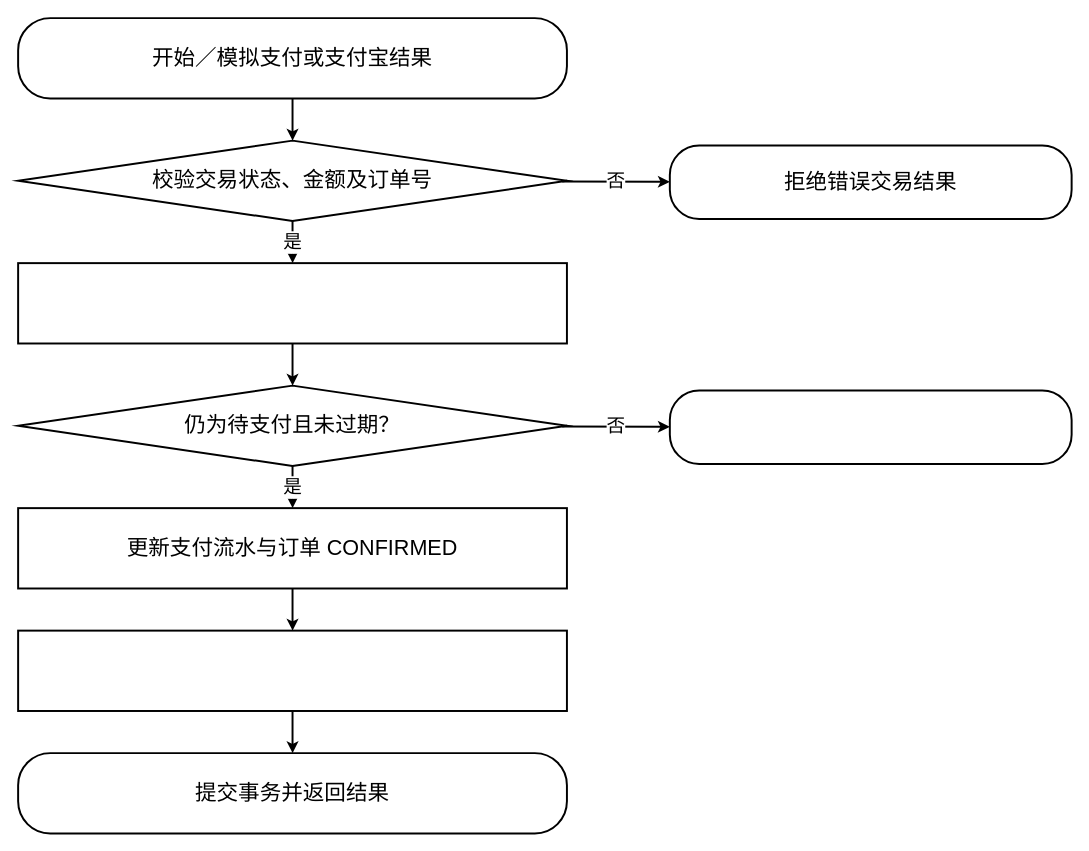
The diagram is 1089 pixels wide and 851 high, and some of its shapes have lost their labels. The centre of each missing label's shape, as x and y in pixels:
日库存由锁定量转为售出量: (292,670)
返回已处理或已关闭状态: (870,427)
锁定订单并检查幂等状态: (292,303)
